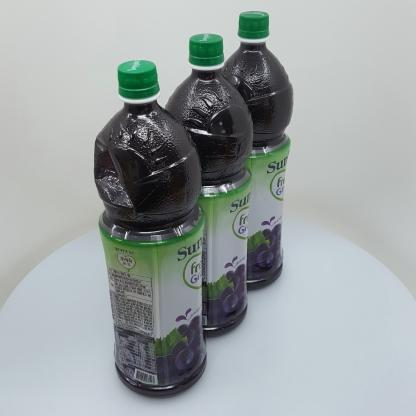-------50_1-5L: (94, 60, 205, 398)
